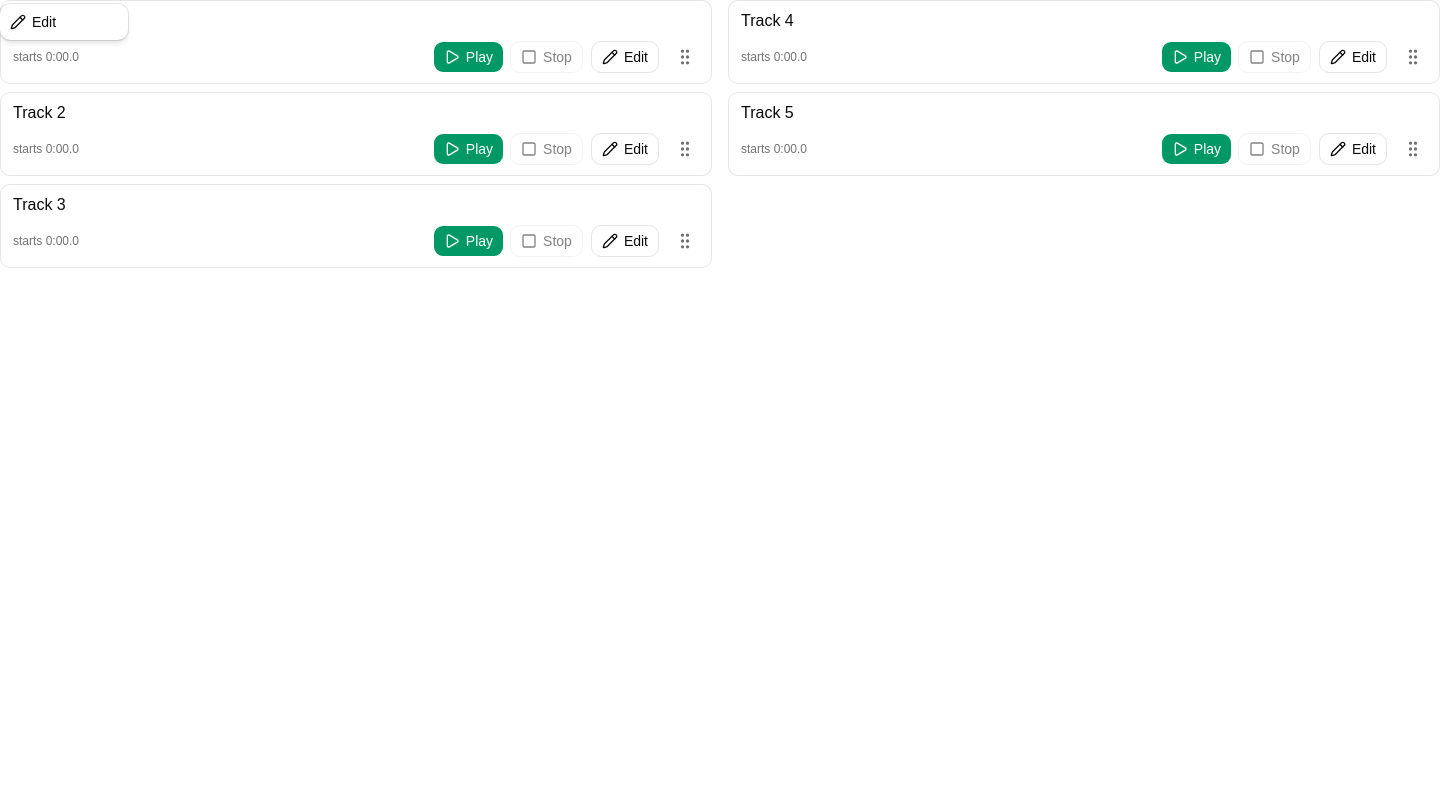
Test: the row menu opens the editor too
Earlier steps of the test are not shown.
Click the menu item "Edit".
click(33, 22)  # box [10,14,56,30]
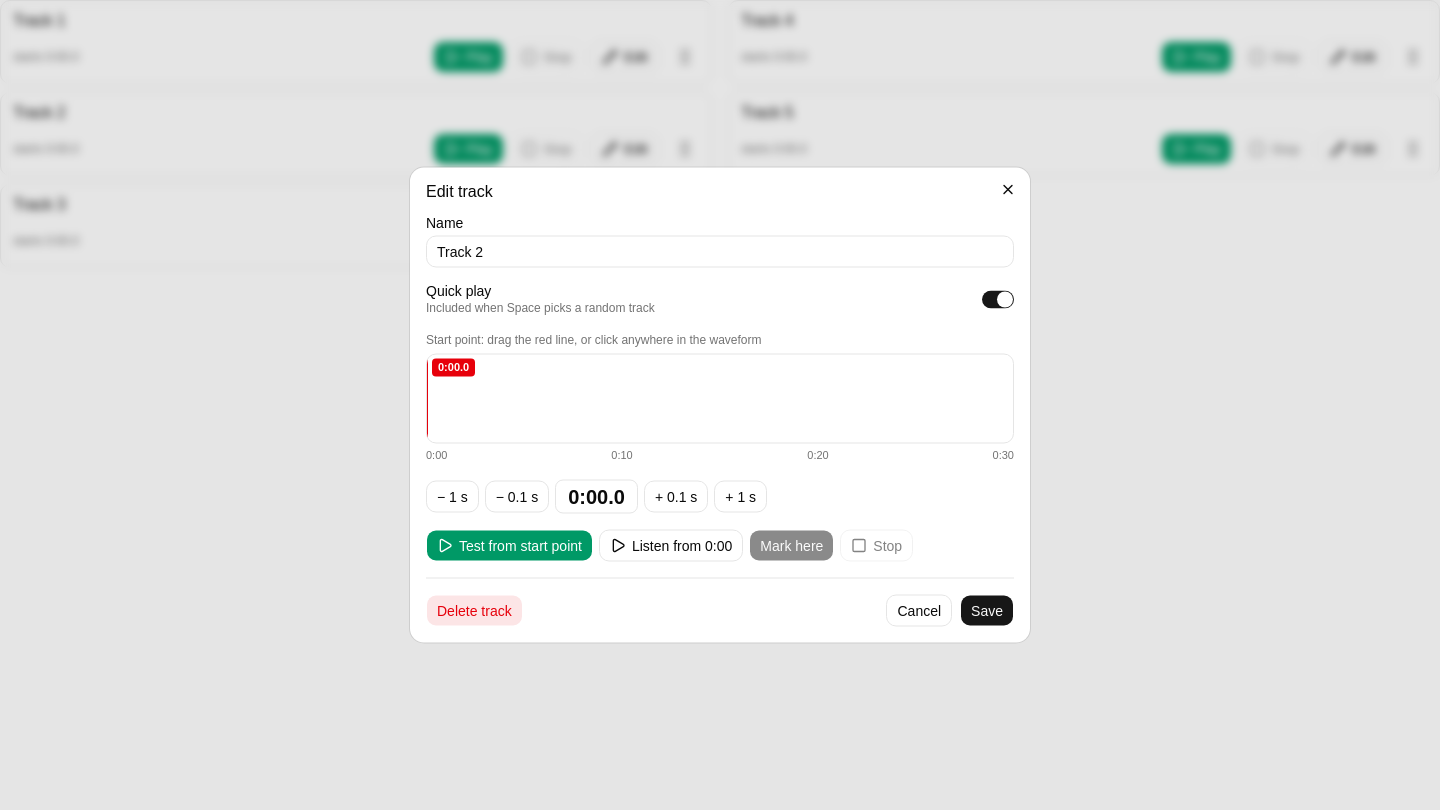
Expected: the dialog "Edit track" is shown, [410,168,1030,642]
Expected: the field labelled "Name" holds "Track 2", [426,236,1014,268]
